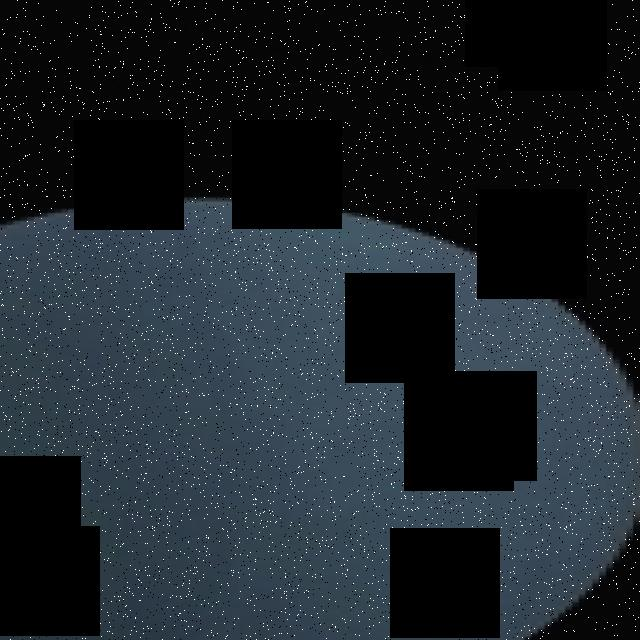Uranus: (0, 196, 640, 640)
